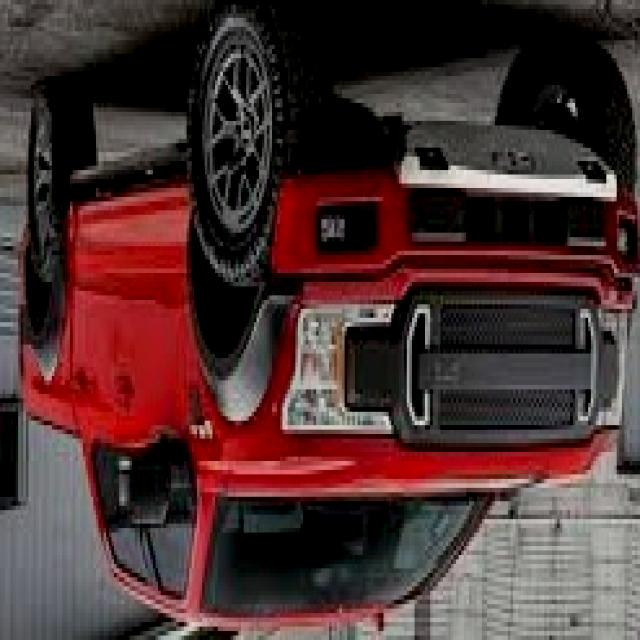red: (0, 69, 627, 626)
